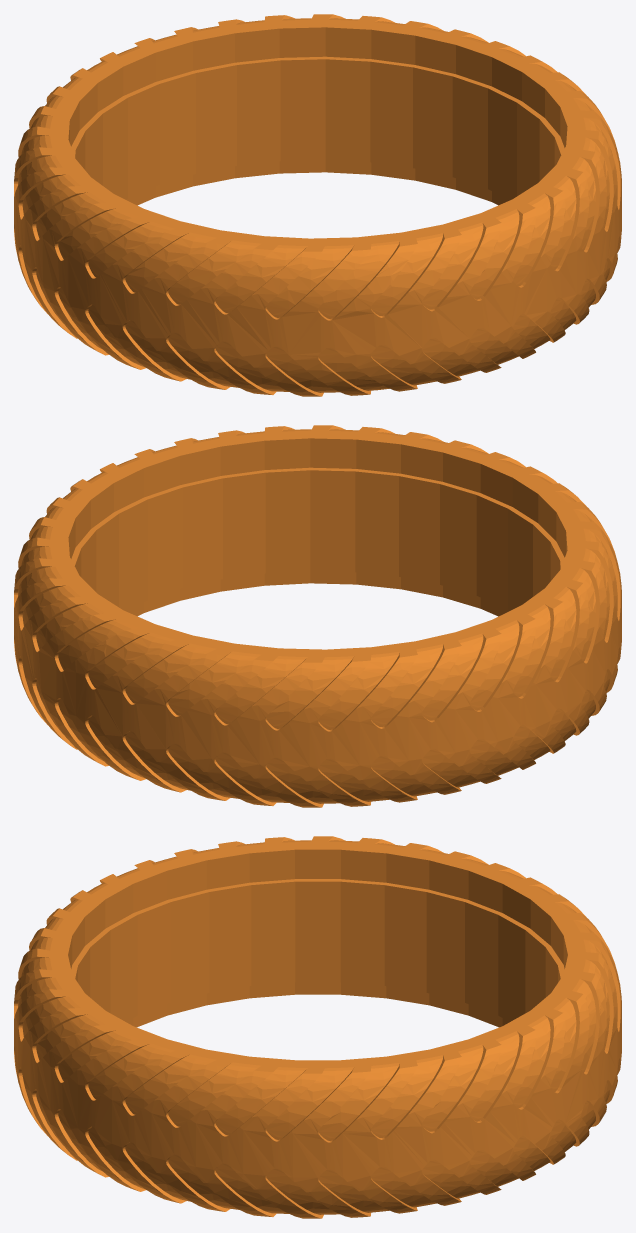
The model's file is wheel.dae.
The picture shows the model from 3 angles, top to bottom: view 1: azimuth 30°, elevation 25°; view 2: azimuth 150°, elevation 25°; view 3: azimuth 270°, elevation 25°; orthographic projection.
Parts seen in each view (by area): view 1: Wheel; view 2: Wheel; view 3: Wheel.
Part boxes in pixels (x1,y1,x2,y2): Wheel: [14, 14, 621, 396]; Wheel: [14, 425, 621, 807]; Wheel: [14, 836, 621, 1218].
Size of the model in its own units: 152 by 152 by 40.
